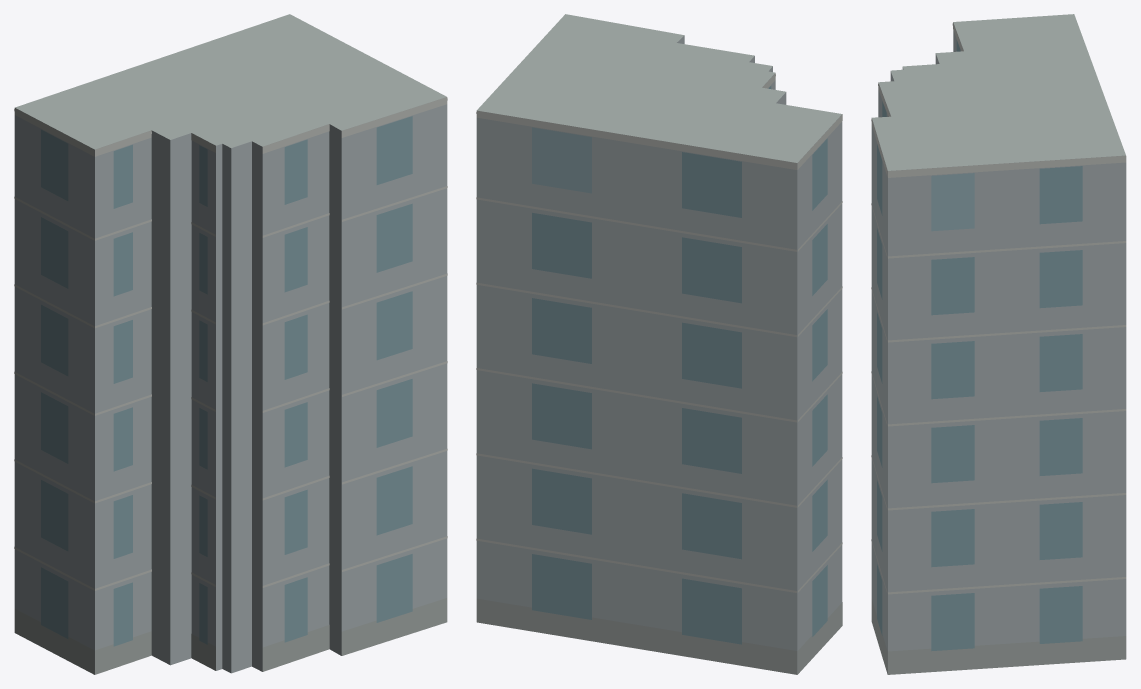
File: survey-upis-32974142.glb
3 views of the same model, side by side, from view 1: azimuth 30°, elevation 25°; view 2: azimuth 150°, elevation 25°; view 3: azimuth 270°, elevation 25° (orthographic). The views are drawn at different scales.
Parts seen in each view (by area): view 1: survey-upis-32974142.tmp; view 2: survey-upis-32974142.tmp; view 3: survey-upis-32974142.tmp.
Part boxes in pixels (x1,y1,x2,y2): survey-upis-32974142.tmp: (14,14,447,674); survey-upis-32974142.tmp: (476,14,842,674); survey-upis-32974142.tmp: (871,14,1126,674).
Size of the model in its own units: 11.72 by 17.5 by 8.03.
